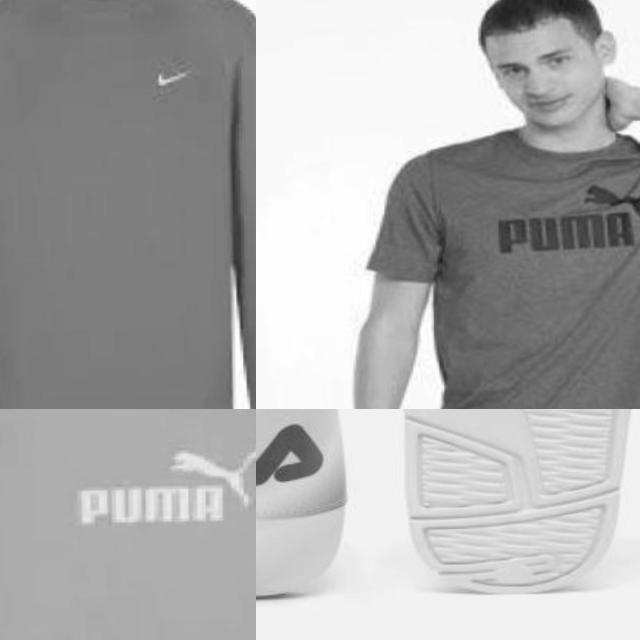FILA_original: (256, 409, 337, 501)
NIKE_original: (136, 52, 197, 106)
PUMA_original: (53, 431, 256, 547), (491, 170, 640, 260)
